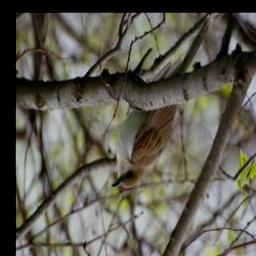Cuckoo: (110, 13, 214, 189)
